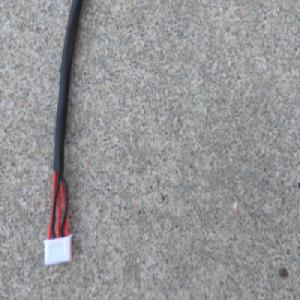Wire: (42, 0, 86, 269)
